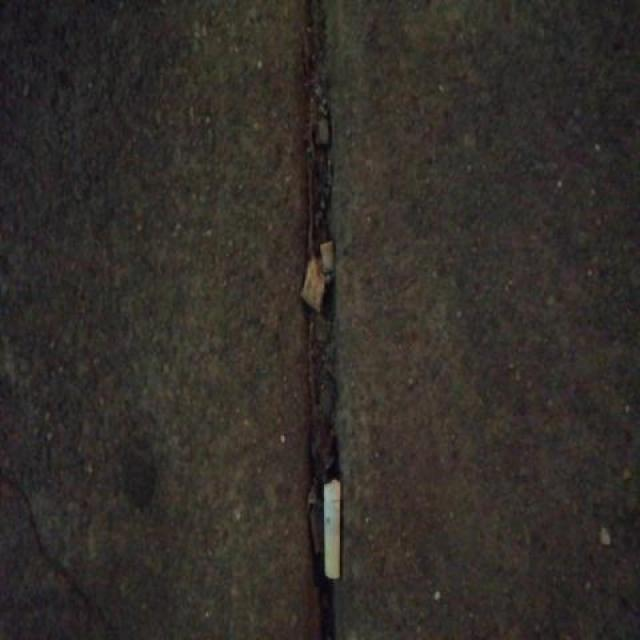non-organic waste: (320, 476, 344, 583)
